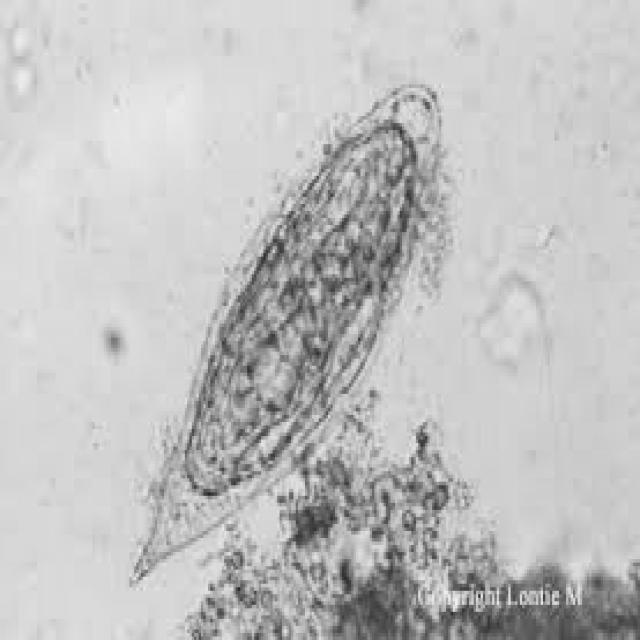Schistosoma: (123, 68, 455, 600)
